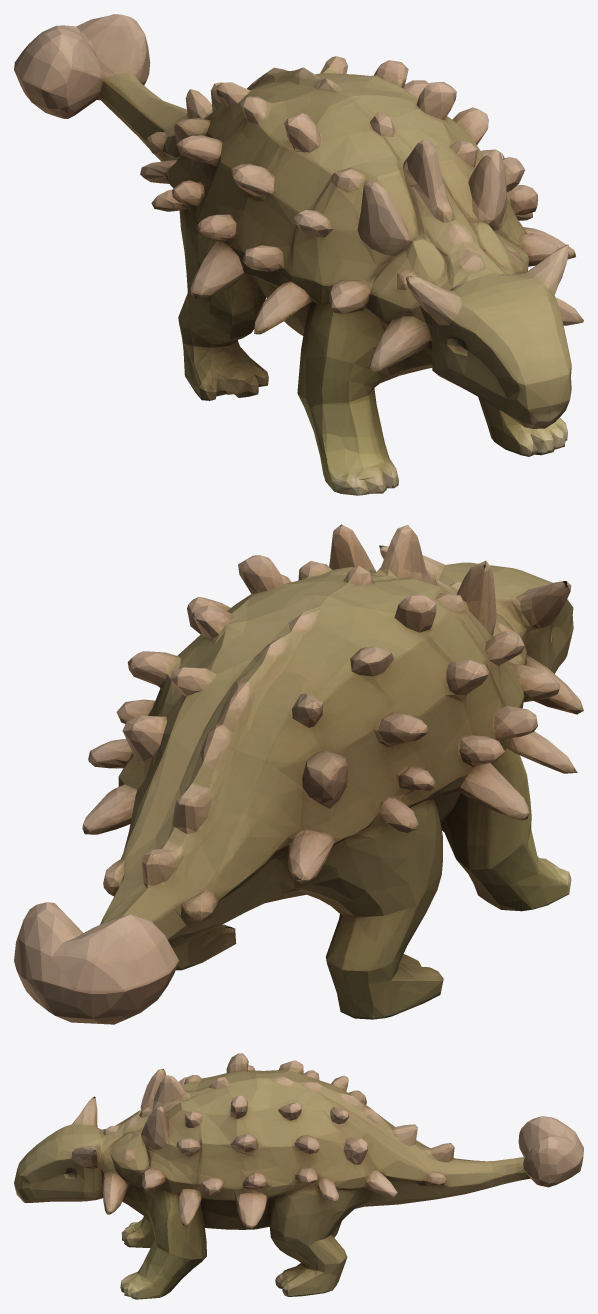
File: ankylosaurus.glb
The picture shows the model from 3 angles, top to bottom: view 1: azimuth 30°, elevation 25°; view 2: azimuth 150°, elevation 25°; view 3: azimuth 270°, elevation 25°; orthographic projection. The views are drawn at different scales.
Visible parts, largest first — view 1: geometry_0; view 2: geometry_0; view 3: geometry_0.
Boxes of the visible parts, bbox=[...] form: geometry_0: bbox=[14, 14, 583, 495]; geometry_0: bbox=[14, 524, 583, 1024]; geometry_0: bbox=[14, 1053, 583, 1299].
Size of the model in its own units: 0.4278 by 0.3689 by 0.9974.
1 material, 1 textured.
